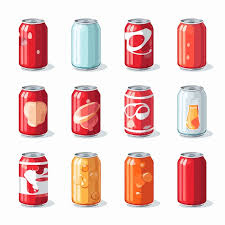can: (17, 17, 209, 206)
